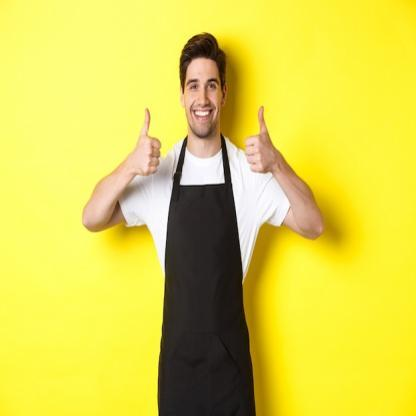thumb_up: (243, 104, 277, 177), (130, 107, 162, 178)
